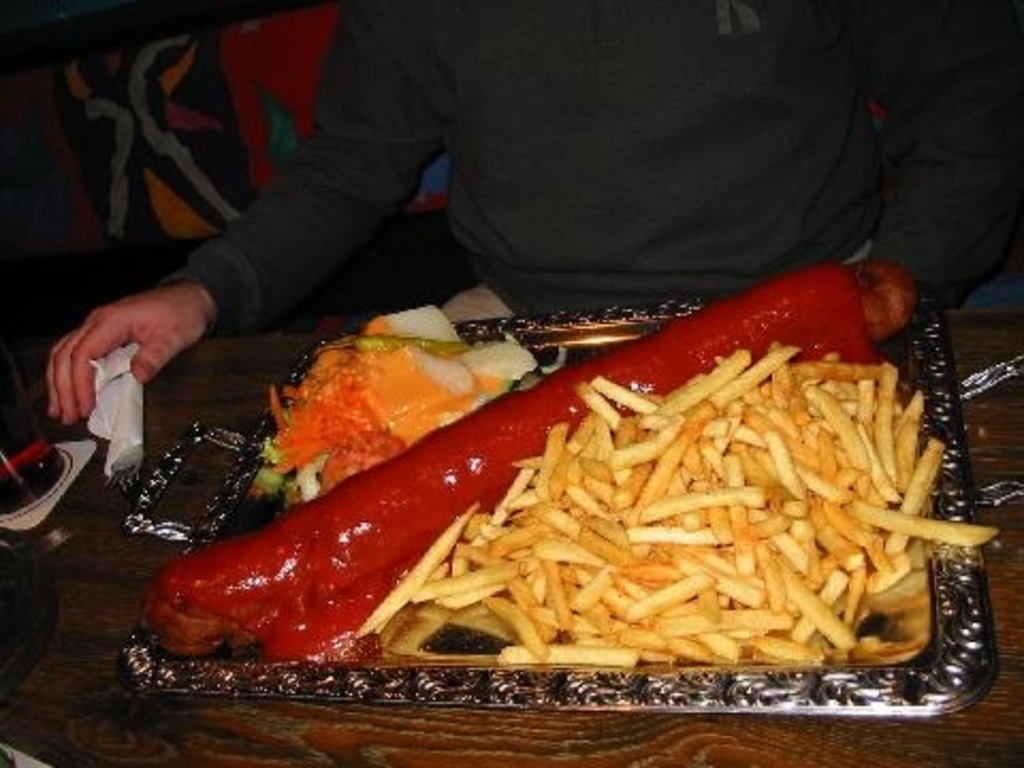French fries: (373, 347, 992, 680)
